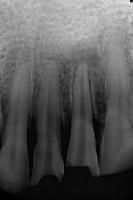Furcation Involvement: (70, 45, 101, 67)
